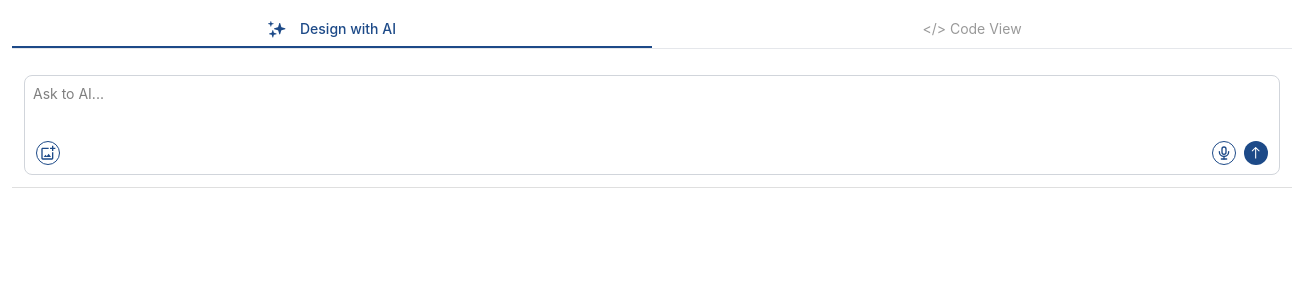
Scenario: HtmlInput — sending a message › sends on Enter and shows an optimistic loading bubble
The width and height of the screenshot is (1304, 292).
Type "hello" into the text box with placeholder "Ask to AI..." at (652, 125), box [24, 75, 1280, 175]
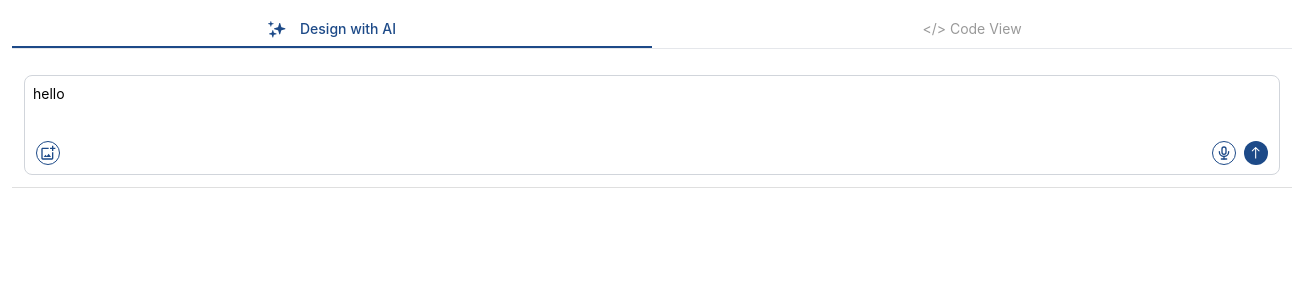
Press Enter in the text box with placeholder "Ask to AI...", box [24, 75, 1280, 175]
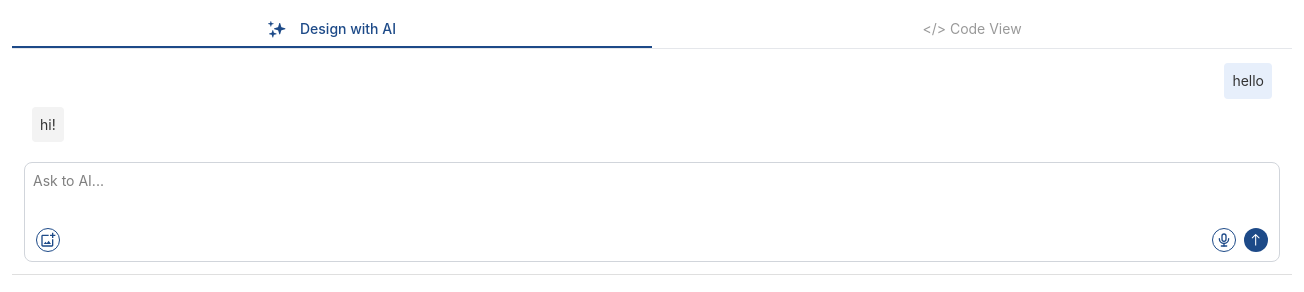
Result: the text "hello" is shown at [1224, 63, 1272, 99]
Result: the text "hi!" is shown at [32, 107, 64, 142]
